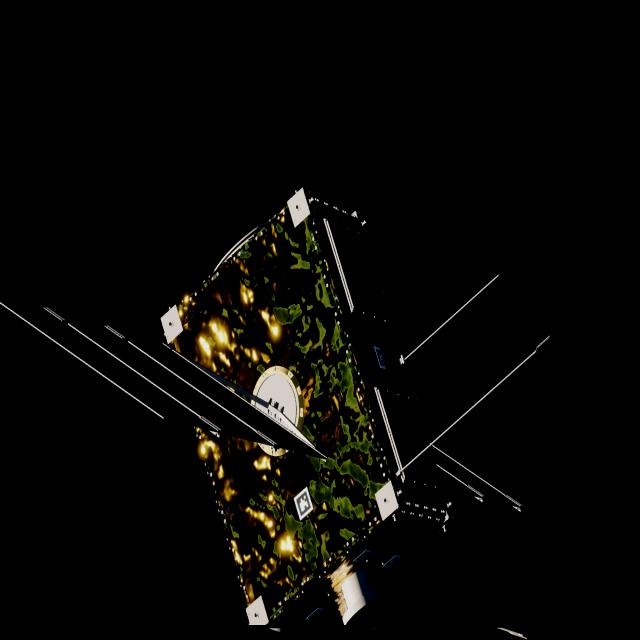medium_debris: (0, 191, 520, 640)
